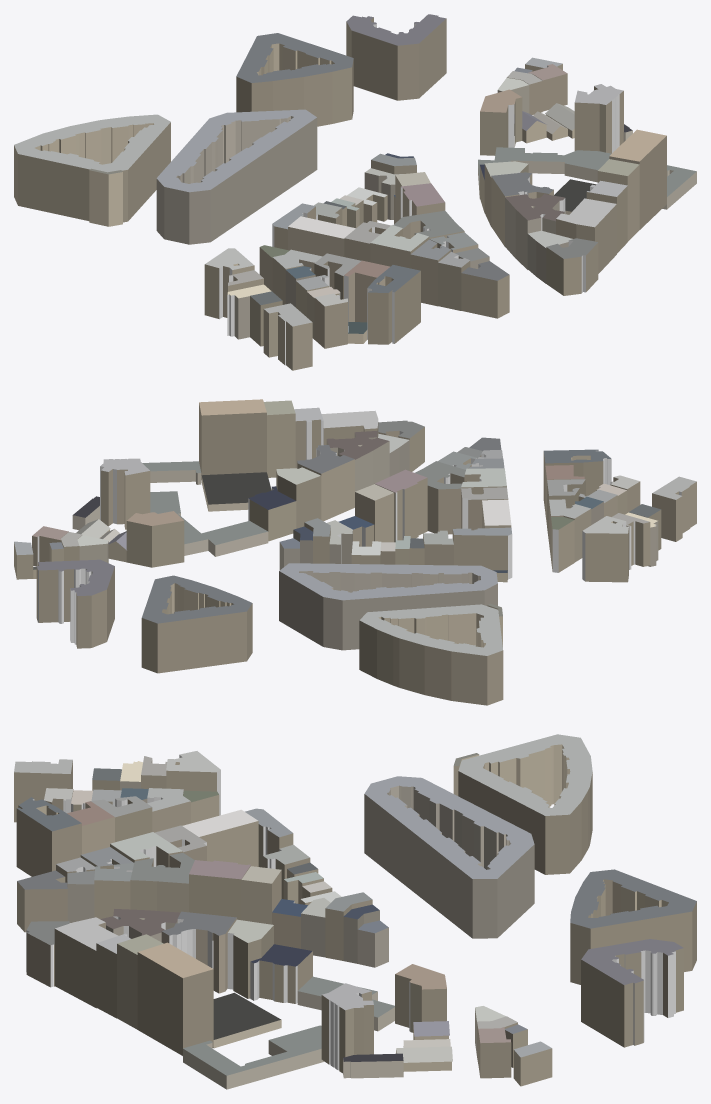
The picture shows the model from 3 angles, top to bottom: view 1: azimuth 30°, elevation 25°; view 2: azimuth 150°, elevation 25°; view 3: azimuth 270°, elevation 25°; orthographic projection. The views are drawn at different scales.
Parts seen in each view (by area): view 1: tuile; view 2: tuile; view 3: tuile.
Part boxes in pixels (x1,y1,x2,y2): tuile: (14,14,696,370); tuile: (14,399,696,705); tuile: (14,734,696,1089).
Bounding box in the file's own units: 280 × 37.26 × 274.
